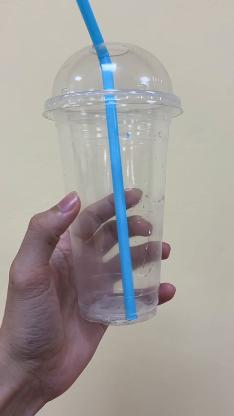Plastic Cup: (43, 41, 183, 325)
